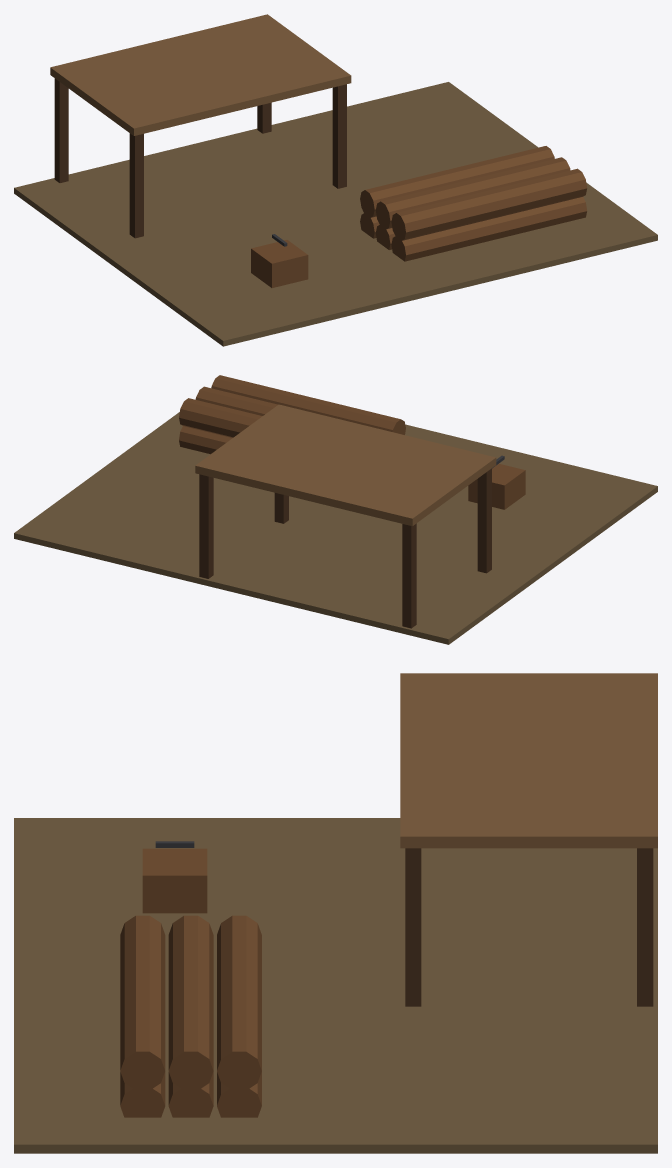
The model's file is lumber.glb.
3 views of the same model, one above another, from view 1: azimuth 30°, elevation 25°; view 2: azimuth 150°, elevation 25°; view 3: azimuth 270°, elevation 25° (orthographic). The views are drawn at different scales.
Visible parts, largest first — view 1: Lumber; view 2: Lumber; view 3: Lumber.
Part boxes in pixels (x1=…): Lumber: x1=14, y1=14, x2=657, y2=346; Lumber: x1=14, y1=375, x2=657, y2=644; Lumber: x1=14, y1=673, x2=657, y2=1153.
Bounding box in the file's own units: 12 × 3.1 × 10.
